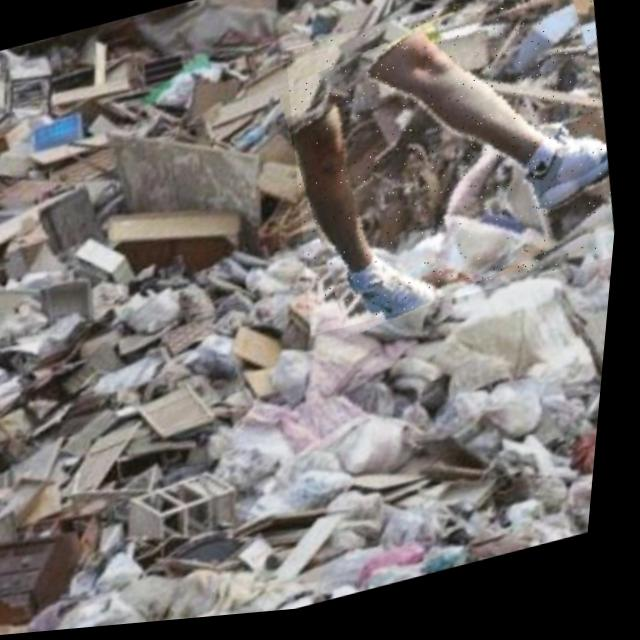Person in Rubble: (266, 0, 639, 345)
